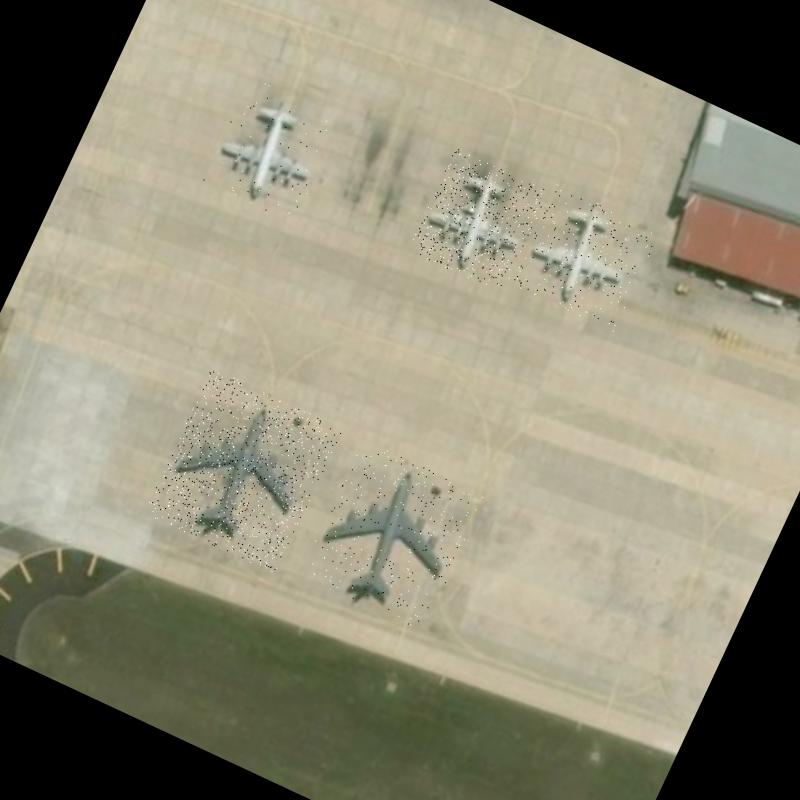A14: (144, 367, 342, 574), (299, 438, 487, 632)
A9: (510, 185, 660, 332), (200, 76, 342, 224), (408, 147, 550, 294)
